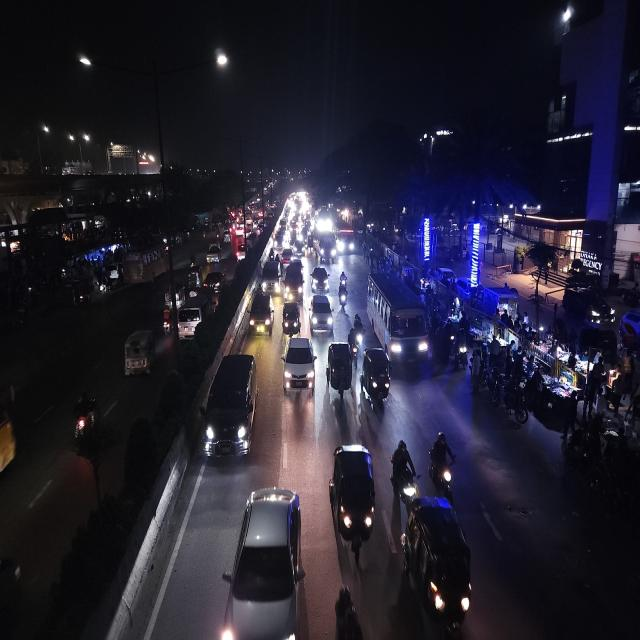bus: (366, 270, 433, 368), (121, 240, 162, 284), (335, 218, 356, 258), (315, 229, 337, 266)
car: (222, 484, 309, 640), (200, 349, 260, 470), (281, 334, 317, 398), (247, 286, 275, 338), (176, 296, 205, 342), (308, 290, 334, 337), (283, 258, 305, 301), (260, 258, 282, 296), (309, 264, 331, 294), (203, 270, 227, 295), (280, 246, 294, 270)
cng: (401, 493, 477, 640), (328, 438, 377, 558), (361, 344, 392, 414), (121, 326, 157, 381), (325, 339, 353, 404), (281, 298, 301, 340), (186, 263, 201, 289)
motorcycle: (389, 436, 418, 512), (427, 428, 457, 495), (71, 390, 101, 451), (350, 312, 364, 359), (337, 271, 349, 311), (161, 301, 173, 337)
pickup_van: (205, 241, 222, 265)
truck: (261, 258, 281, 296)
